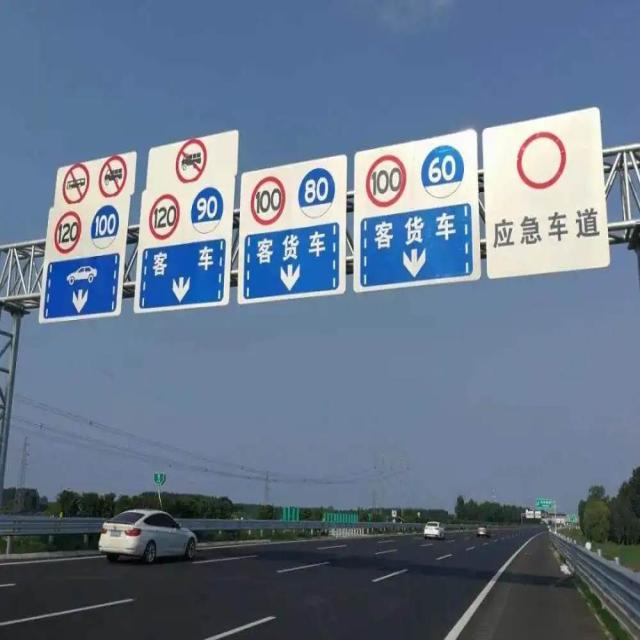speed limit 100: (364, 155, 406, 207), (249, 175, 286, 225), (89, 205, 119, 249)
speed limit 120: (148, 194, 179, 241), (53, 211, 82, 254)
speed limit 60: (420, 146, 464, 200)
speed limit 80: (297, 167, 335, 220)
speed limit 90: (190, 188, 223, 234)
